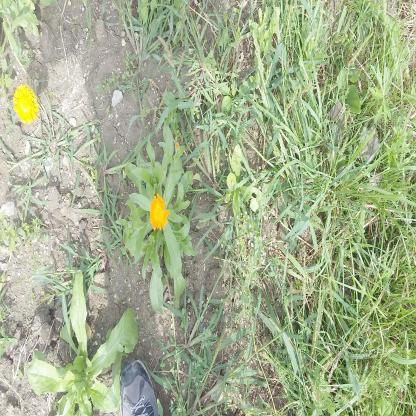marigold: (13, 85, 36, 123), (150, 195, 168, 229)
